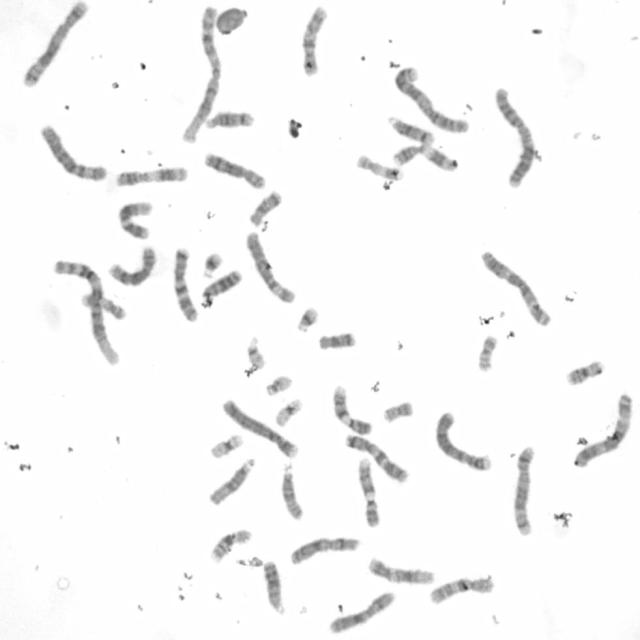A1: (51, 255, 122, 368), (177, 2, 223, 145)
A2: (390, 62, 470, 135), (491, 84, 537, 189)
A3: (477, 247, 552, 328), (570, 389, 634, 469)
B4: (218, 395, 300, 459), (432, 408, 494, 472)
B5: (19, 0, 90, 89), (510, 442, 536, 537)
C10: (426, 572, 494, 606), (298, 3, 328, 78)
C11: (390, 142, 458, 172), (113, 162, 189, 188)
C12: (365, 554, 435, 586), (116, 197, 154, 241)
C6: (38, 121, 109, 183), (243, 228, 297, 306)
C7: (342, 431, 409, 484), (170, 243, 200, 323)
C8: (201, 149, 267, 191), (104, 242, 158, 288)
C9: (331, 381, 374, 436), (354, 455, 380, 529)
D13: (198, 266, 242, 306), (260, 557, 286, 616)
D14: (384, 112, 436, 146), (202, 108, 256, 130)
D15: (206, 454, 256, 507), (279, 463, 304, 522)
E16: (206, 525, 253, 564), (563, 356, 606, 388)
E17: (78, 290, 128, 322), (354, 152, 403, 182)
E18: (247, 187, 284, 229), (314, 328, 358, 352)
F19: (272, 394, 305, 428), (207, 432, 245, 460)
F20: (474, 330, 500, 373), (380, 398, 414, 424)
G21: (293, 303, 321, 334), (199, 249, 225, 279)
G22: (242, 333, 268, 370), (262, 371, 294, 397)
X: (325, 588, 397, 635), (286, 532, 361, 566)
